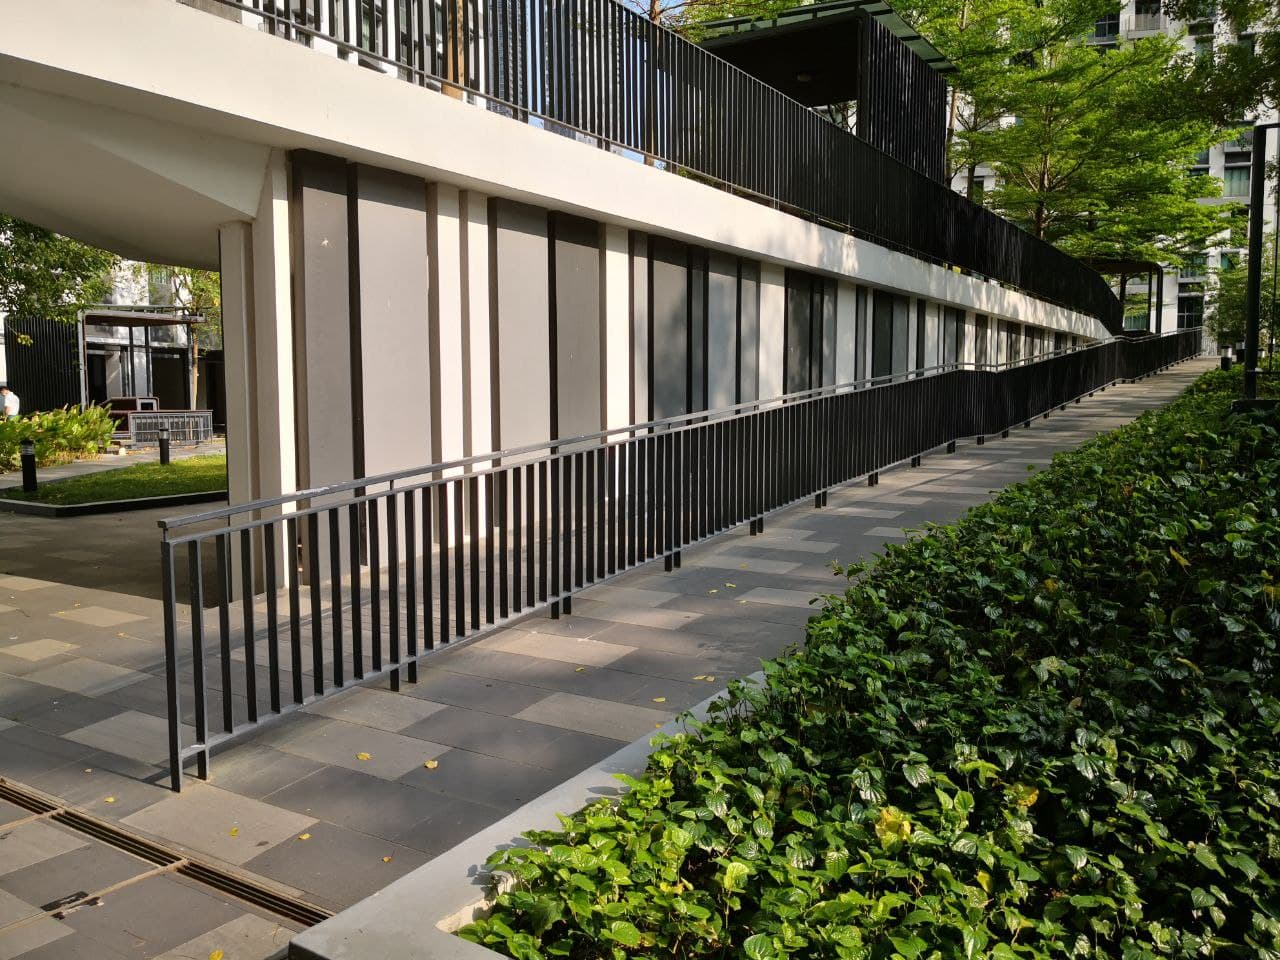slopes: (46, 313, 1239, 931)
